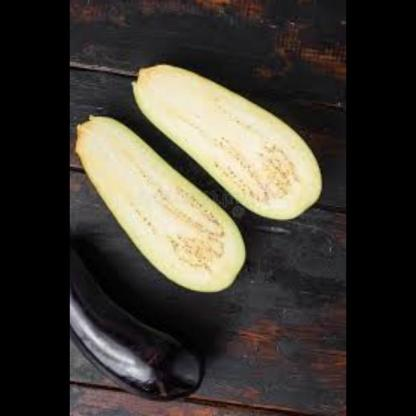eggplant: (72, 113, 245, 315), (122, 53, 319, 223), (71, 216, 190, 416)
